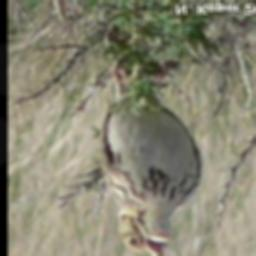Sparrow: (94, 59, 205, 256)
